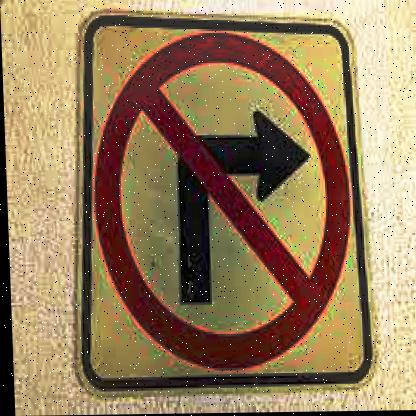No right turn: (93, 27, 353, 373)
